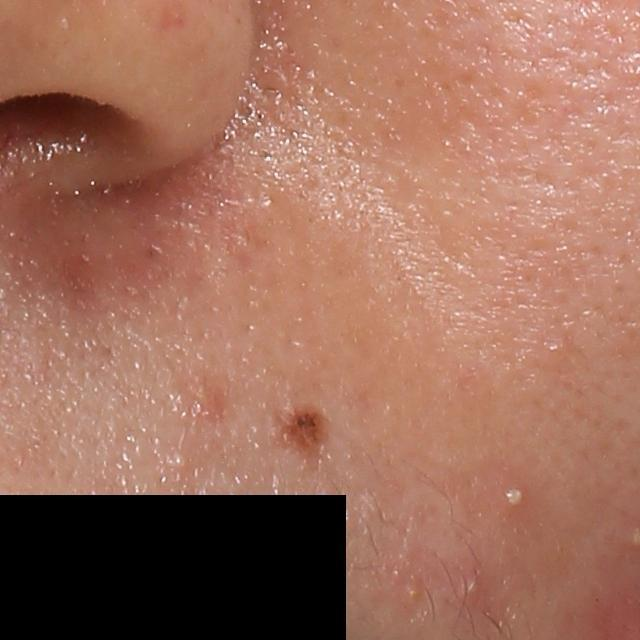comedo: (545, 339, 568, 357), (170, 451, 188, 472), (406, 583, 423, 601)
nevus: (274, 402, 332, 467)
papule: (172, 378, 225, 424)
pustule: (499, 483, 533, 518), (458, 568, 490, 602)
